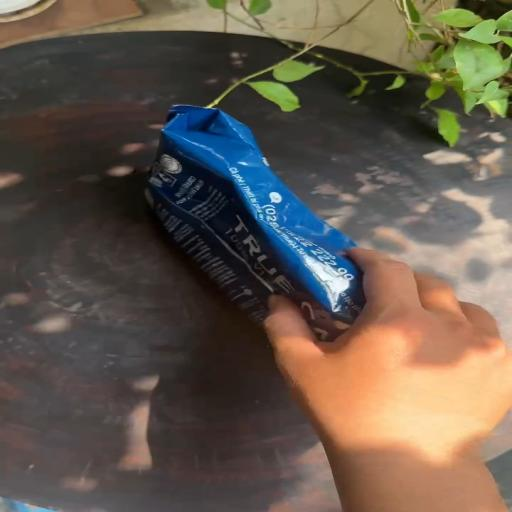cafe_hat: (146, 105, 365, 341)
